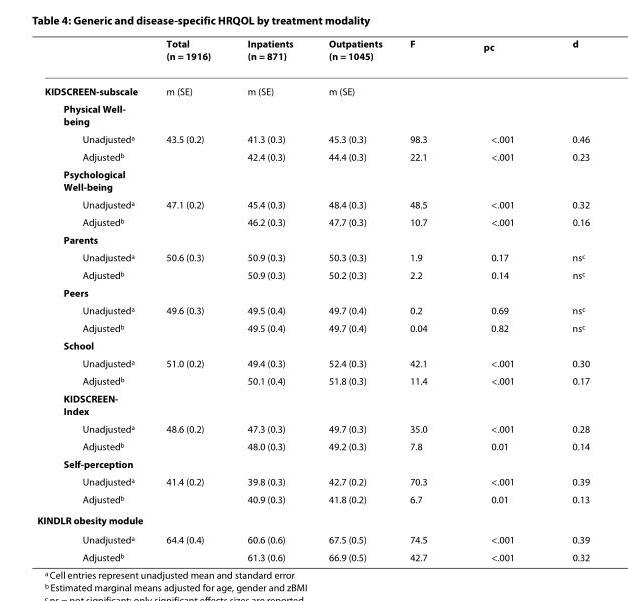table: (36, 36, 589, 562)
table column: (36, 36, 153, 562), (454, 36, 542, 562), (310, 36, 395, 562), (228, 36, 310, 562), (153, 36, 228, 562), (395, 36, 454, 562), (542, 36, 589, 562)
table column header: (36, 36, 589, 72)
table projected row header: (36, 164, 589, 195), (36, 388, 589, 419), (36, 99, 589, 129), (36, 508, 589, 529), (36, 230, 589, 248), (36, 454, 589, 472), (36, 283, 589, 300), (36, 336, 589, 353)
table row: (36, 36, 589, 72), (36, 164, 589, 195), (36, 388, 589, 419), (36, 99, 589, 129), (36, 72, 589, 99), (36, 508, 589, 529), (36, 489, 589, 508), (36, 129, 589, 147), (36, 212, 589, 230), (36, 230, 589, 248), (36, 265, 589, 283), (36, 300, 589, 318), (36, 318, 589, 336), (36, 353, 589, 371), (36, 436, 589, 454), (36, 454, 589, 472), (36, 529, 589, 547), (36, 147, 589, 164), (36, 195, 589, 212), (36, 248, 589, 265), (36, 283, 589, 300), (36, 336, 589, 353), (36, 371, 589, 388), (36, 419, 589, 436), (36, 472, 589, 489), (36, 547, 589, 562)
